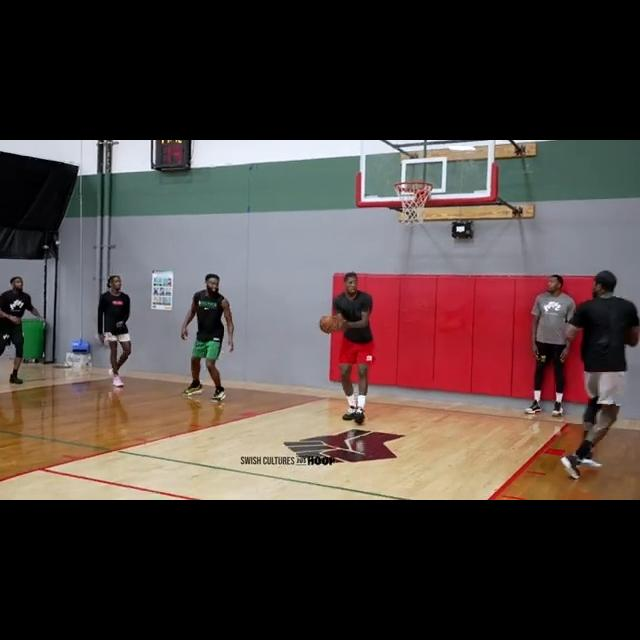basketball: (319, 313, 338, 333)
hoop: (393, 182, 433, 227)
person: (562, 270, 640, 478), (177, 268, 241, 406), (330, 270, 378, 425), (525, 274, 571, 414), (0, 273, 45, 388), (100, 271, 136, 389)
